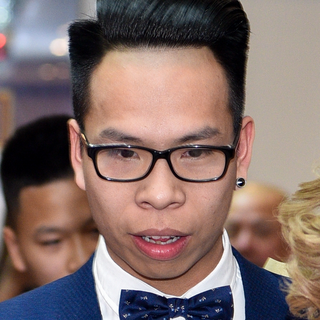eye: (179, 141, 221, 165), (104, 142, 146, 165)
